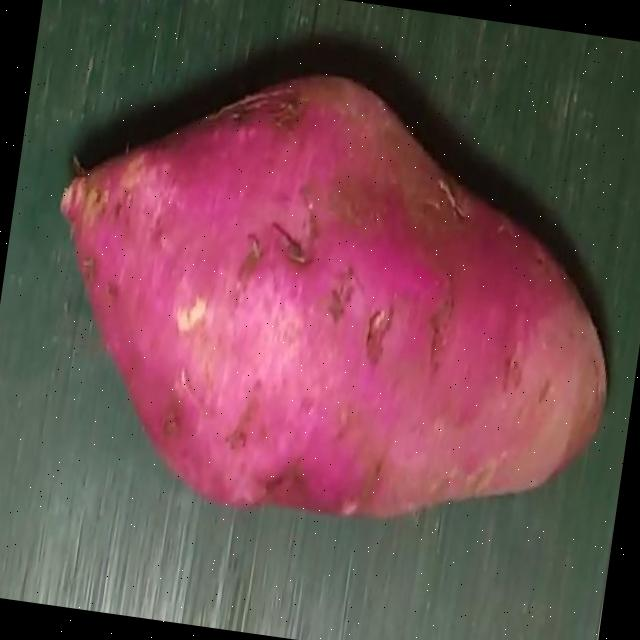Sweet Potato: (55, 74, 608, 519)
